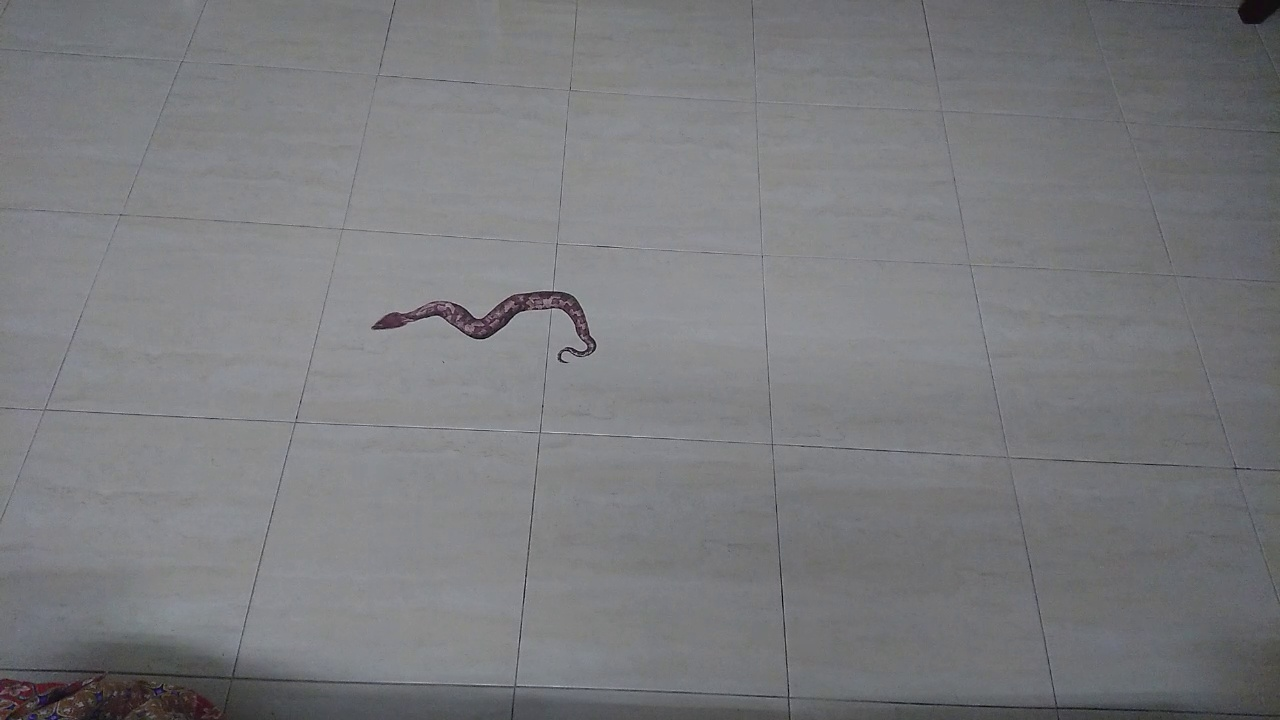snake: (357, 265, 609, 380)
